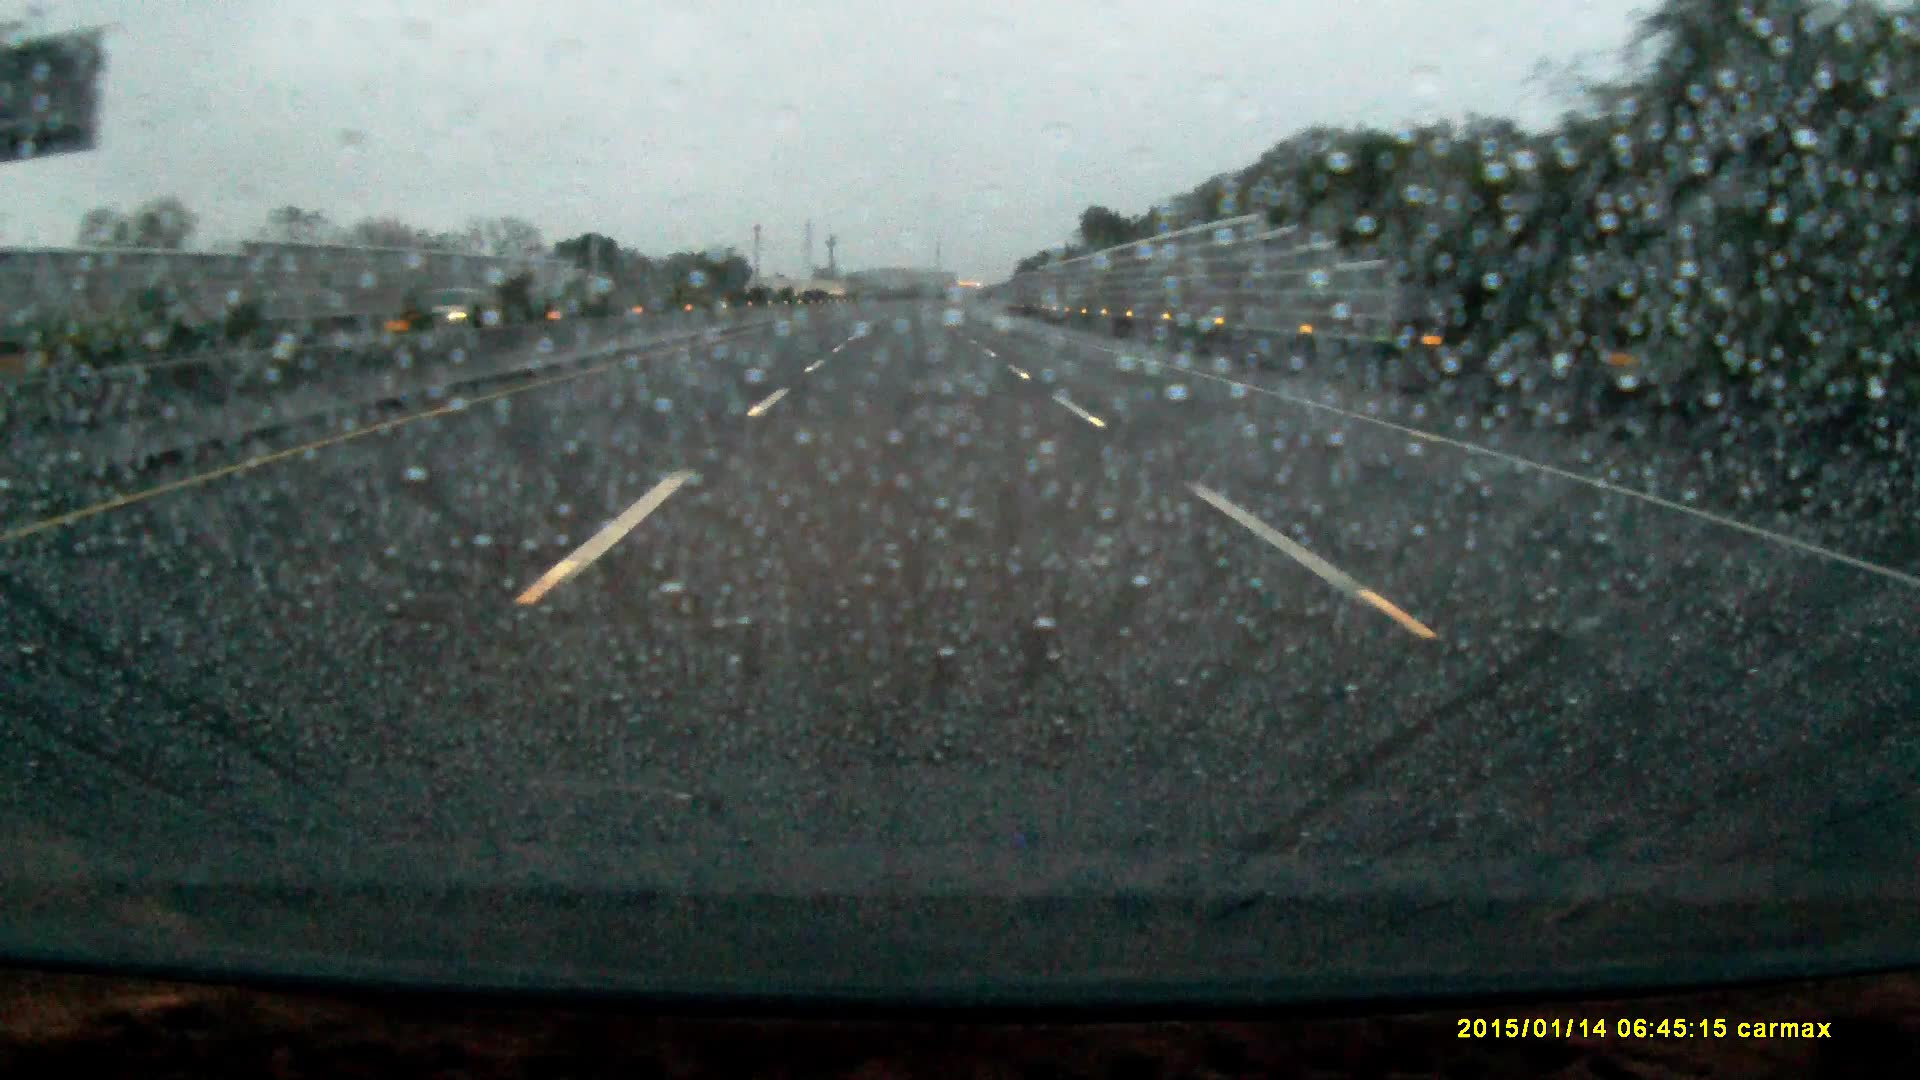vehicle: (410, 287, 484, 324)
